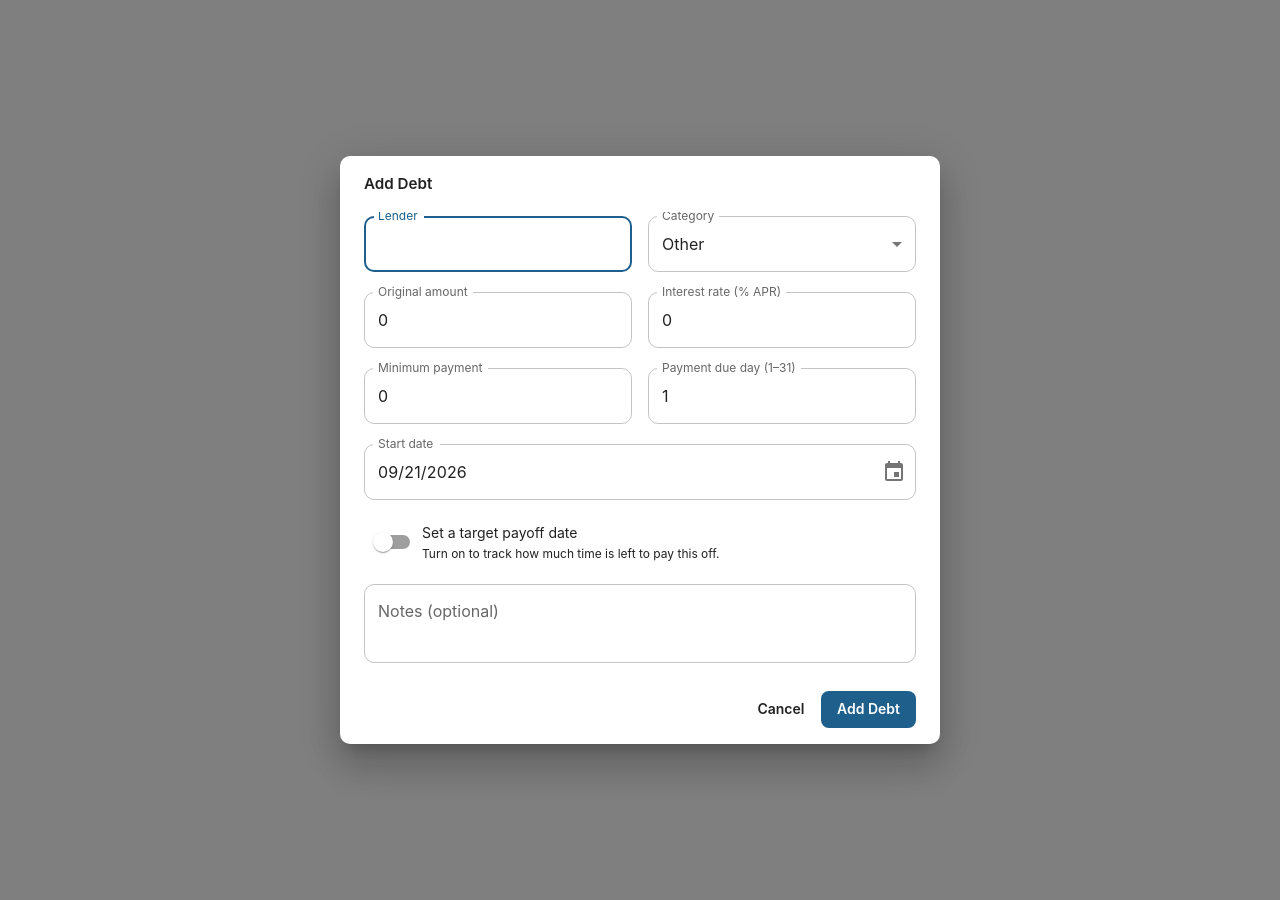
DebtFormDialog › requires a target payoff date once the toggle is on
The width and height of the screenshot is (1280, 900).
Type "Acme Bank" into the field labelled "Lender" at point(498, 244), box x1=364 y1=216 x2=632 y2=272
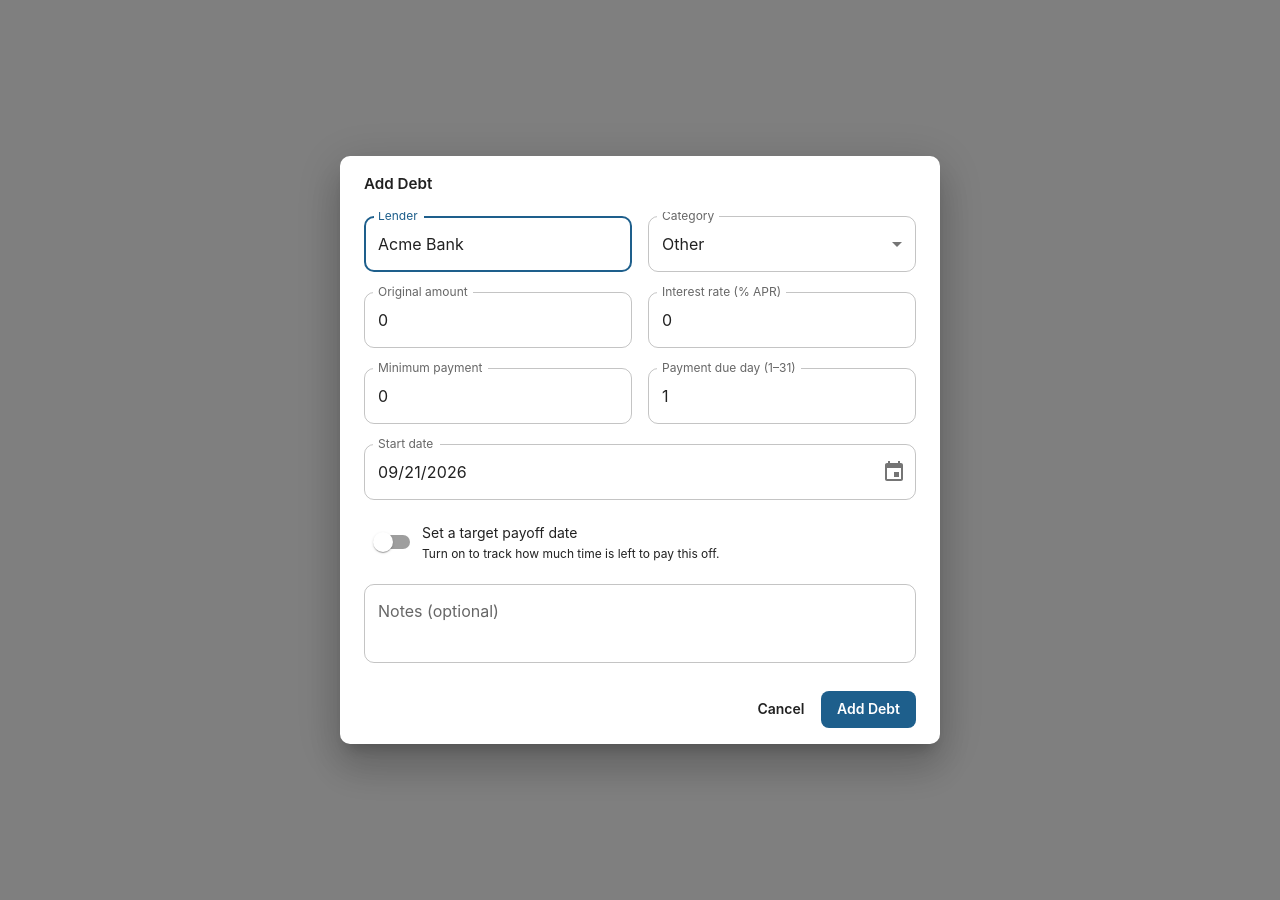
Replace the text in the number field labelled "Original amount" with "50000" at point(498, 320), box x1=364 y1=292 x2=632 y2=348
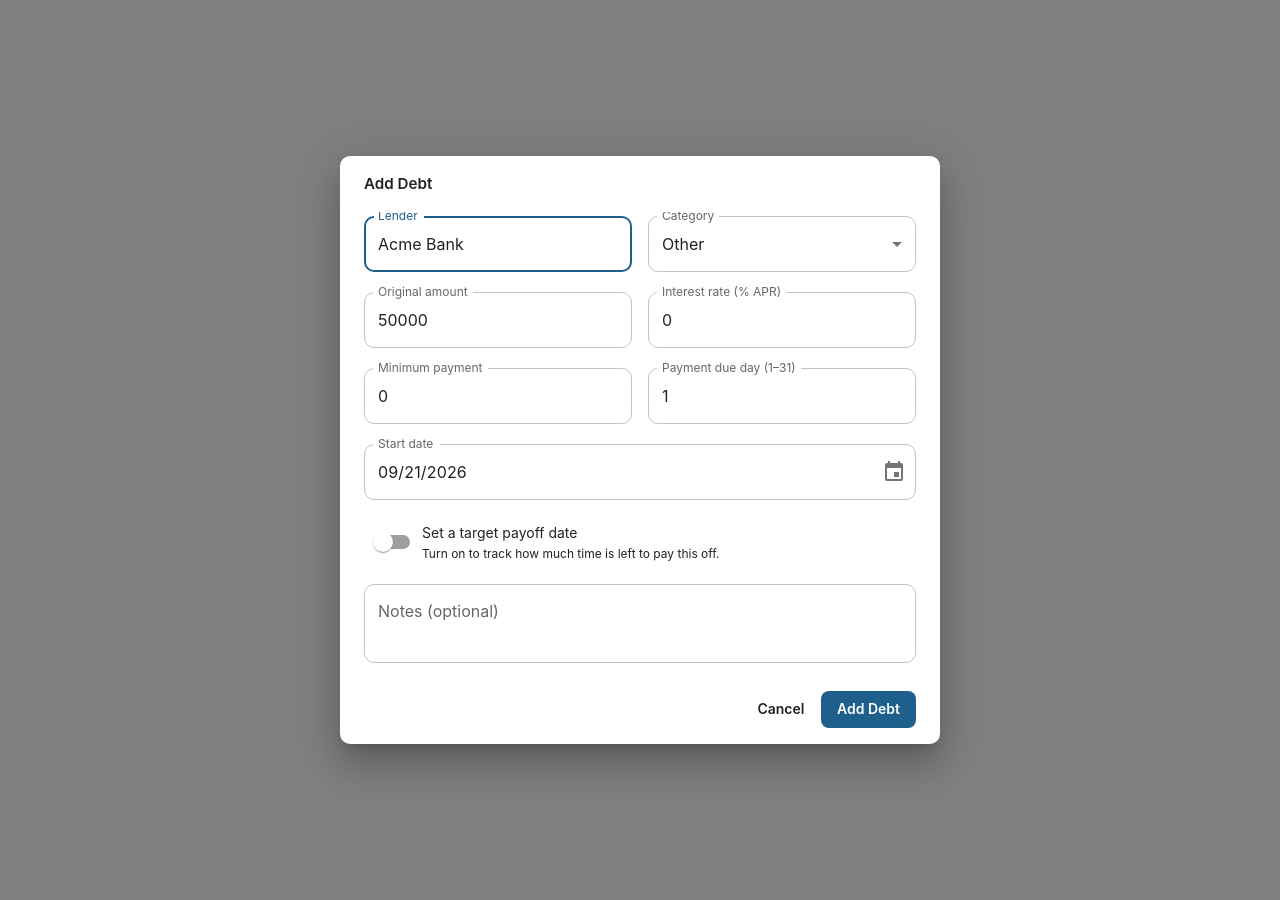
Click the switch labelled "Set a target payoff date" at point(546, 543), box x1=373 y1=524 x2=720 y2=562
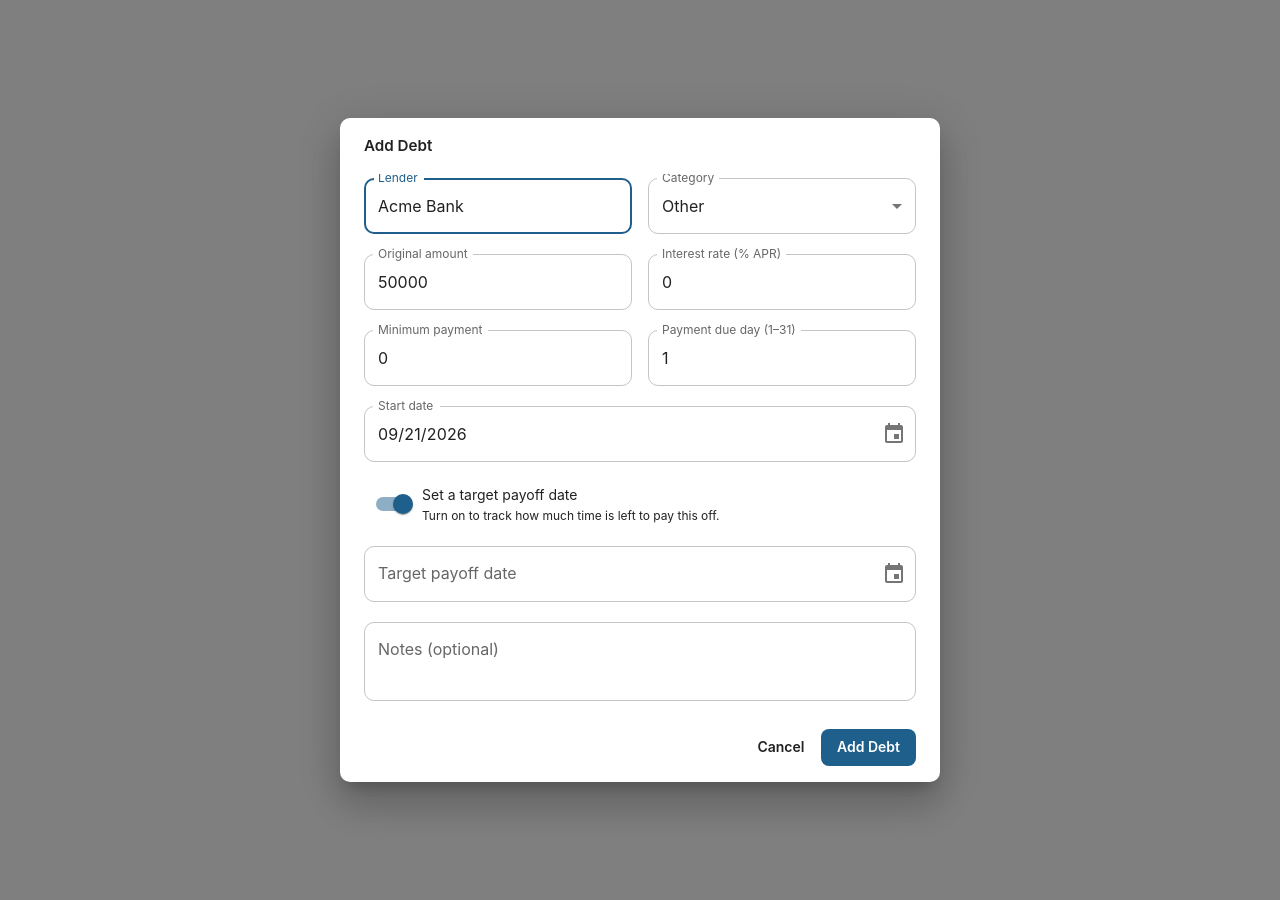
Click the button "Add Debt" at point(868, 748), box x1=821 y1=729 x2=916 y2=766
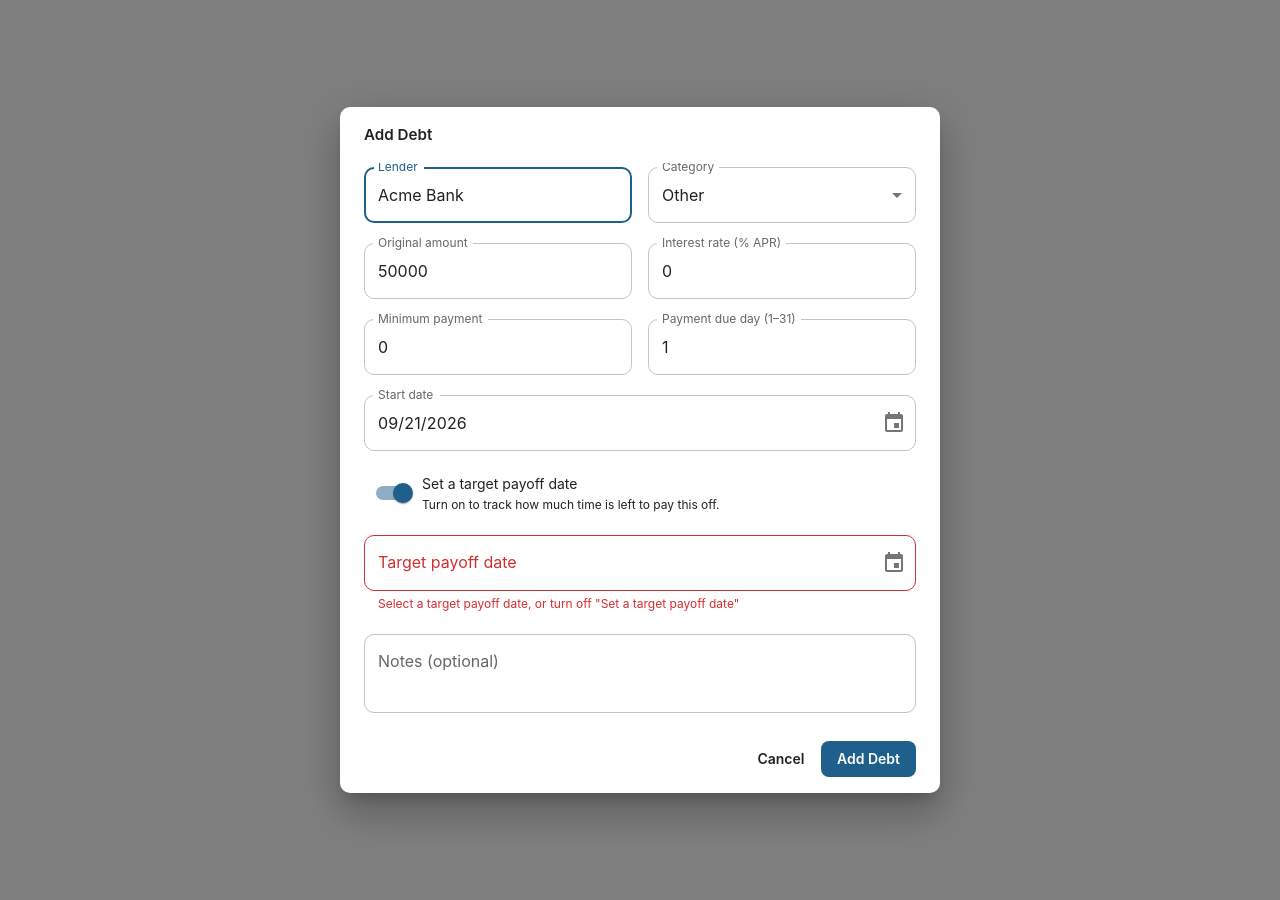
Result: the text "Select a target payoff date, or turn off \"Set a target payoff date\"" is shown at x1=378 y1=596 x2=739 y2=611
